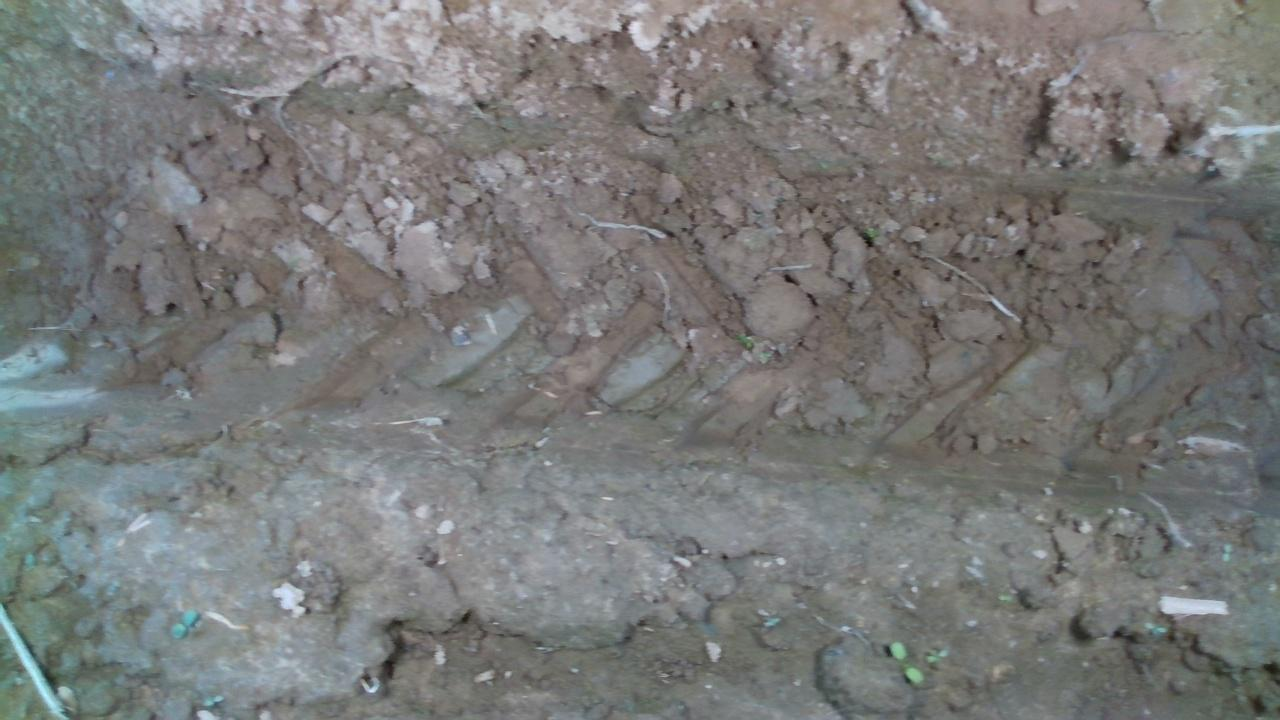weed: (886, 639, 924, 684), (168, 607, 197, 639), (924, 644, 947, 665)
